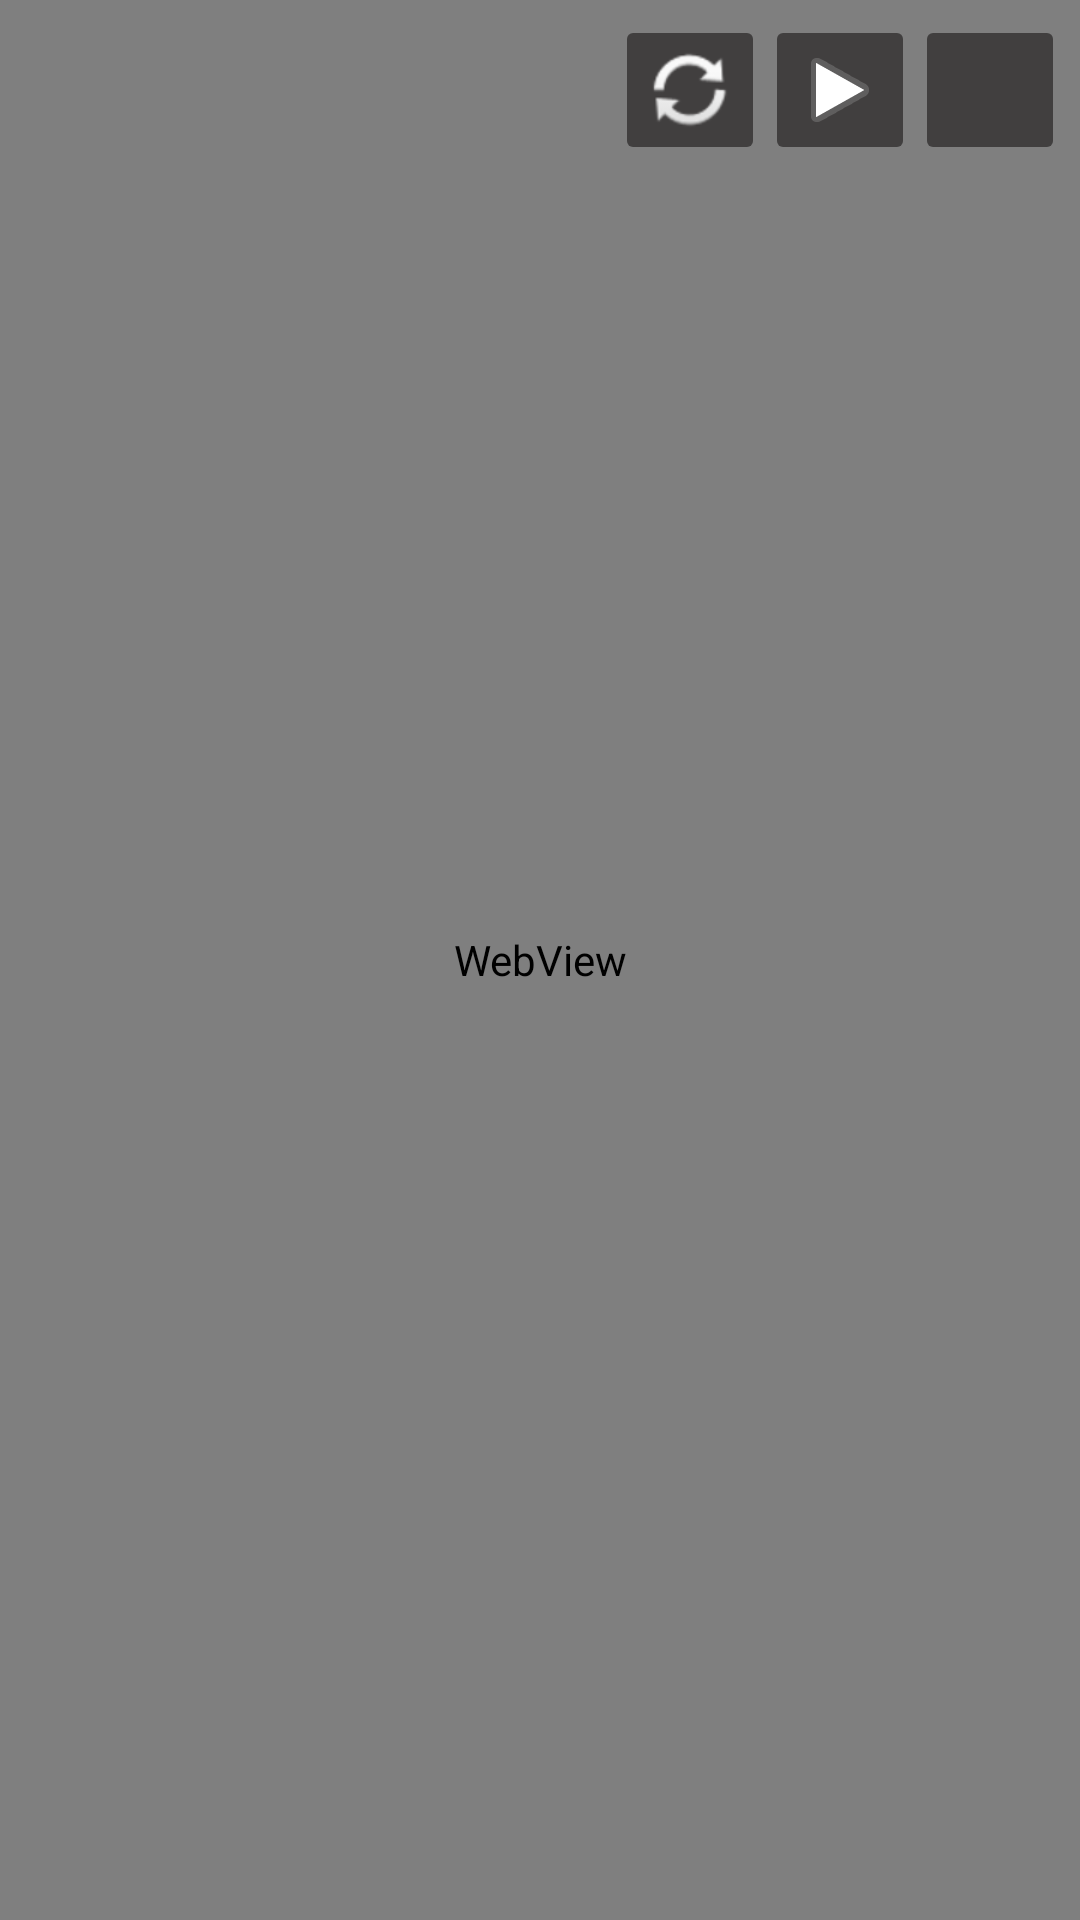

Screen size 1080*1920. Icon name, then its center in pixels as [x,y]:
play: [840,90]
popup sync: [690,90]
